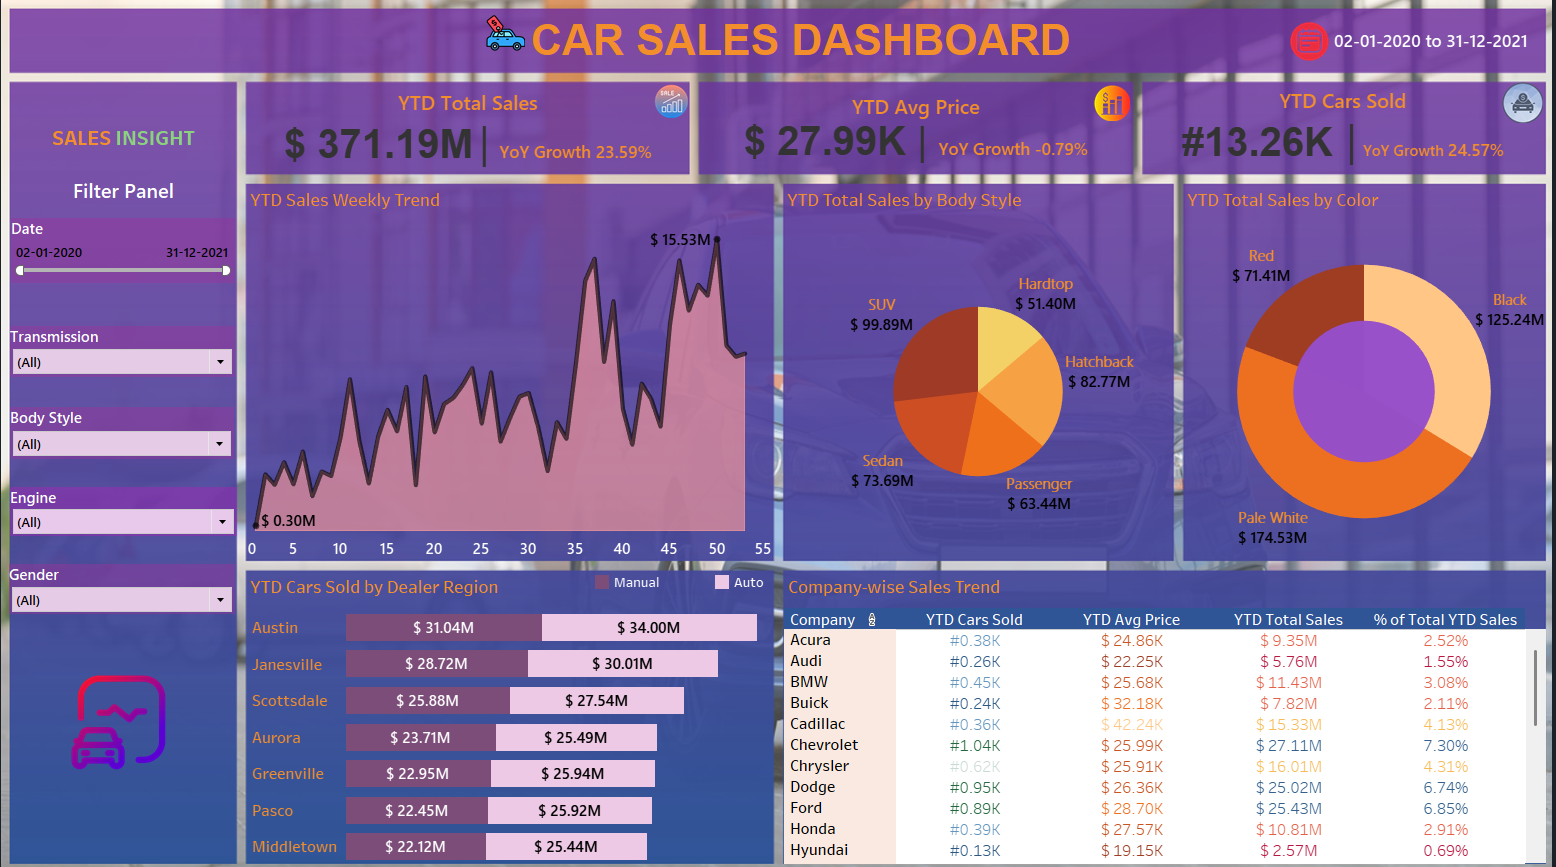

The dashboard page shown, as its layout file describes it:
{"tool":"tableau","page":{"name":"Car Sales Dashboard","canvas":[1600,900],"ordinal":0},"visuals":[{"type":"image","param":"D:/Gowri/Car sales Tableau Dashboard/Car sales dashboard background.png","box":[8,8,1584,884]},{"type":"worksheet","title":"Sheet 9","mark":"Automatic","box":[1339,21,226,63]},{"type":"image","param":"C:/Users/HP/Downloads/price_18307438.png","box":[507,26,56,39]},{"type":"text","box":[32,27,1532,54]},{"type":"image","param":"C:/Users/HP/Downloads/date_5045902.png","box":[1310,34,45,40]},{"type":"worksheet","title":"YTD Cars Sold","mark":"Automatic","box":[1162,93,405,94]},{"type":"image","param":"C:/Users/HP/Downloads/fare_7219439.png","box":[1523,95,68,41]},{"type":"worksheet","title":"YTD Total Sales","mark":"Automatic","box":[268,96,442,91]},{"type":"worksheet","title":"YTD Avg Price","mark":"Automatic","box":[719,96,436,90]},{"type":"image","param":"C:/Users/HP/Downloads/sale-up_11460049.png","box":[675,97,55,34]},{"type":"image","param":"C:/Users/HP/Downloads/increase_7318310.png","box":[1115,98,49,36]},{"type":"text","box":[33,135,223,30]},{"type":"text","box":[32,188,225,30]},{"type":"worksheet","title":"YTD Sales Weekly Trend","mark":"Area","rows":["Calculation_839076931176861696","Calculation_839076931176861696"],"cols":["Date"],"box":[267,196,527,378]},{"type":"worksheet","title":"YTD Total Sales by Body Style","mark":"Pie","box":[804,196,390,378]},{"type":"worksheet","title":"YTD Total Sales by Color","mark":"Pie","rows":["Calculation_839076931408453649","Calculation_839076931408482323"],"box":[1204,196,362,378]},{"type":"filter","title":"YTD Sales Weekly Trend","param":"[federated.0znk32o0hvnpbu1fubh8300hr7fi].[none:Date:qk]","box":[32,231,224,65]},{"type":"filter","title":"YTD Sales Weekly Trend","param":"[federated.0znk32o0hvnpbu1fubh8300hr7fi].[none:Transmission:nk]","box":[31,339,225,51]},{"type":"filter","title":"YTD Sales Weekly Trend","param":"[federated.0znk32o0hvnpbu1fubh8300hr7fi].[none:Body Style:nk]","box":[31,420,224,52]},{"type":"filter","title":"YTD Sales Weekly Trend","param":"[federated.0znk32o0hvnpbu1fubh8300hr7fi].[none:Engine:nk]","box":[31,500,227,49]},{"type":"filter","title":"YTD Sales Weekly Trend","param":"[federated.0znk32o0hvnpbu1fubh8300hr7fi].[none:Gender:nk]","box":[30,577,226,50]},{"type":"worksheet","title":"YTD Cars Sold by Dealer Region","mark":"Automatic","rows":["Dealer_Region"],"cols":["Calculation_839076931176861696"],"box":[267,583,532,295]},{"type":"worksheet","title":"Company-wise Sales Trend","mark":"Automatic","rows":["Company"],"box":[805,583,762,294]},{"type":"legend","title":"YTD Cars Sold by Dealer Region","param":"[federated.0znk32o0hvnpbu1fubh8300hr7fi].[none:Transmission:nk]","box":[613,585,243,30]},{"type":"image","param":"C:/Users/HP/Downloads/bars_13959862.png","box":[89,685,117,100]}]}

Visuals, with their boxes in screenshot pixels (x1, y1, x2, y2), scaled from the page's 1600x900 canvas onto the 1556x867 screenshot:
image: bbox=(8, 8, 1548, 859)
"Sheet 9" worksheet: bbox=(1302, 20, 1522, 81)
image: bbox=(493, 25, 548, 63)
text: bbox=(31, 26, 1521, 78)
image: bbox=(1274, 33, 1318, 71)
"YTD Cars Sold" worksheet: bbox=(1130, 90, 1524, 180)
image: bbox=(1481, 92, 1547, 131)
"YTD Total Sales" worksheet: bbox=(261, 92, 690, 180)
"YTD Avg Price" worksheet: bbox=(699, 92, 1123, 179)
image: bbox=(656, 93, 710, 126)
image: bbox=(1084, 94, 1132, 129)
text: bbox=(32, 130, 249, 159)
text: bbox=(31, 181, 250, 210)
"YTD Sales Weekly Trend" worksheet (Area marks): bbox=(260, 189, 772, 553)
"YTD Total Sales by Body Style" worksheet (Pie marks): bbox=(782, 189, 1161, 553)
"YTD Total Sales by Color" worksheet (Pie marks): bbox=(1171, 189, 1523, 553)
"YTD Sales Weekly Trend" filter: bbox=(31, 223, 249, 285)
"YTD Sales Weekly Trend" filter: bbox=(30, 327, 249, 376)
"YTD Sales Weekly Trend" filter: bbox=(30, 405, 248, 455)
"YTD Sales Weekly Trend" filter: bbox=(30, 482, 251, 529)
"YTD Sales Weekly Trend" filter: bbox=(29, 556, 249, 604)
"YTD Cars Sold by Dealer Region" worksheet: bbox=(260, 562, 777, 846)
"Company-wise Sales Trend" worksheet: bbox=(783, 562, 1524, 845)
"YTD Cars Sold by Dealer Region" legend: bbox=(596, 564, 832, 592)
image: bbox=(87, 660, 200, 756)
